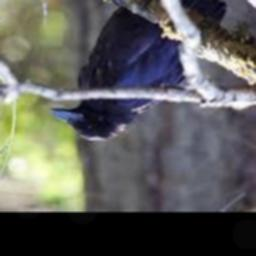Crow: (52, 0, 243, 142)
